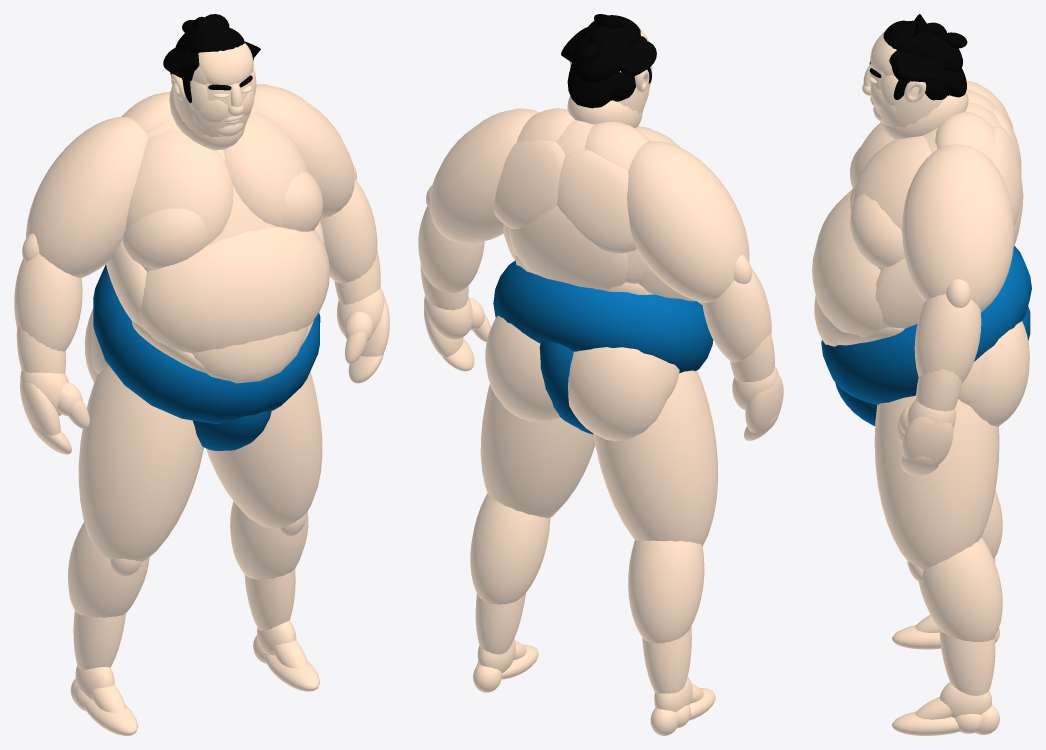
The model's file is sumo_man.gltf.
3 views of the same model, side by side, from view 1: azimuth 30°, elevation 25°; view 2: azimuth 150°, elevation 25°; view 3: azimuth 270°, elevation 25° (orthographic). The views are drawn at different scales.
Visible parts, largest first — view 1: Torso1, RightLeg, polySurface103, LeftLeg, Mawashi, polySurface94, polySurface57, polySurface124, polySurface113, pSphere61; view 2: RightLeg, LeftLeg, Torso1, polySurface103, Mawashi, polySurface94, pSphere61, polySurface113, polySurface124, polySurface57; view 3: LeftLeg, Torso1, polySurface94, Mawashi, pSphere61, polySurface57, polySurface113, RightLeg, polySurface103.
Boxes of the visible parts, x1=… form: Torso1: x1=106, y1=91, x2=329, y2=383; RightLeg: x1=68, y1=308, x2=203, y2=735; polySurface103: x1=14, y1=116, x2=148, y2=373; LeftLeg: x1=206, y1=371, x2=322, y2=691; Mawashi: x1=93, y1=264, x2=320, y2=450; polySurface94: x1=254, y1=84, x2=380, y2=304; polySurface57: x1=169, y1=43, x2=256, y2=150; polySurface124: x1=20, y1=370, x2=89, y2=454; polySurface113: x1=337, y1=287, x2=389, y2=383; pSphere61: x1=163, y1=14, x2=260, y2=103; RightLeg: x1=568, y1=347, x2=717, y2=735; LeftLeg: x1=470, y1=316, x2=595, y2=692; Torso1: x1=494, y1=108, x2=702, y2=304; polySurface103: x1=627, y1=141, x2=774, y2=381; Mawashi: x1=493, y1=260, x2=713, y2=434; polySurface94: x1=418, y1=108, x2=539, y2=310; pSphere61: x1=561, y1=14, x2=656, y2=108; polySurface113: x1=423, y1=295, x2=490, y2=371; polySurface124: x1=732, y1=366, x2=783, y2=440; polySurface57: x1=567, y1=28, x2=652, y2=127; LeftLeg: x1=874, y1=321, x2=1029, y2=735; Torso1: x1=812, y1=89, x2=1023, y2=346; polySurface94: x1=902, y1=144, x2=1014, y2=411; Mawashi: x1=821, y1=246, x2=1031, y2=425; pSphere61: x1=869, y1=14, x2=967, y2=100; polySurface57: x1=862, y1=31, x2=968, y2=139; polySurface113: x1=896, y1=399, x2=955, y2=475; RightLeg: x1=892, y1=306, x2=1029, y2=649; polySurface103: x1=966, y1=80, x2=1013, y2=129.
Bounding box in the file's own units: 30.39 × 55.95 × 16.52.
